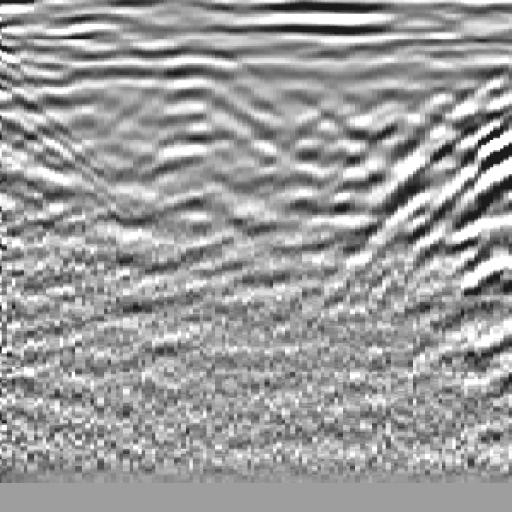metalic: (85, 36, 287, 281)
nonmetalic: (372, 46, 512, 285)
